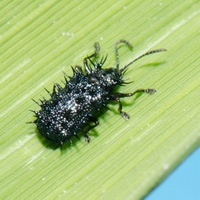insect: (33, 40, 166, 145)
